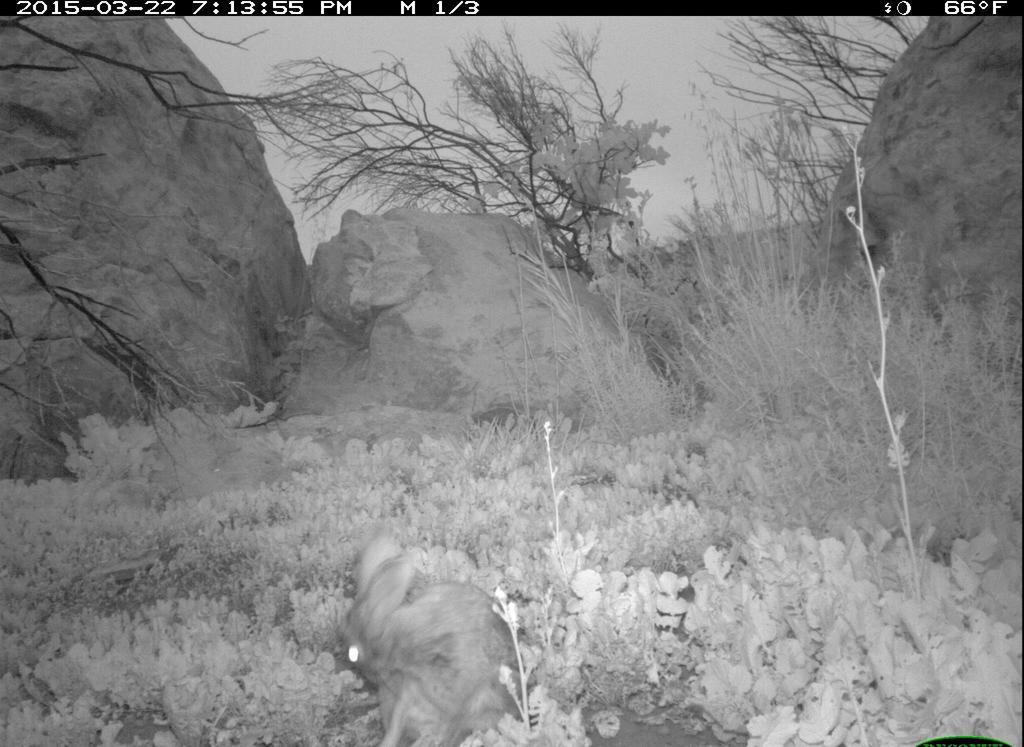rabbit: (329, 538, 537, 747)
